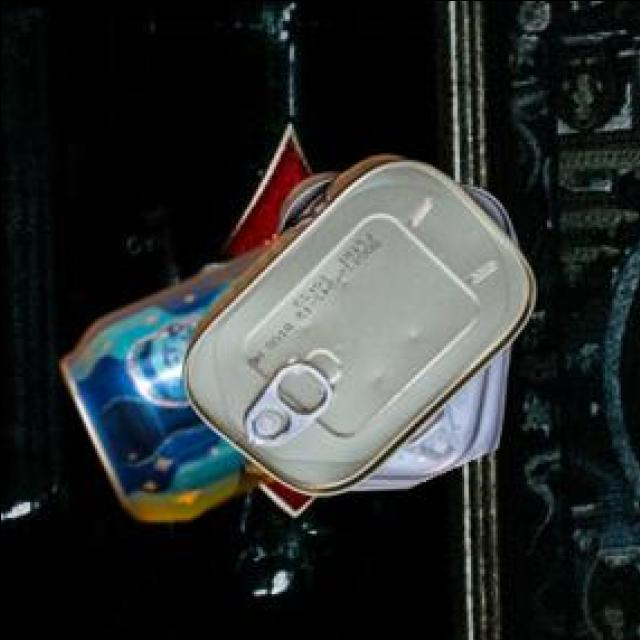logam: (178, 158, 531, 498), (59, 250, 270, 523)
